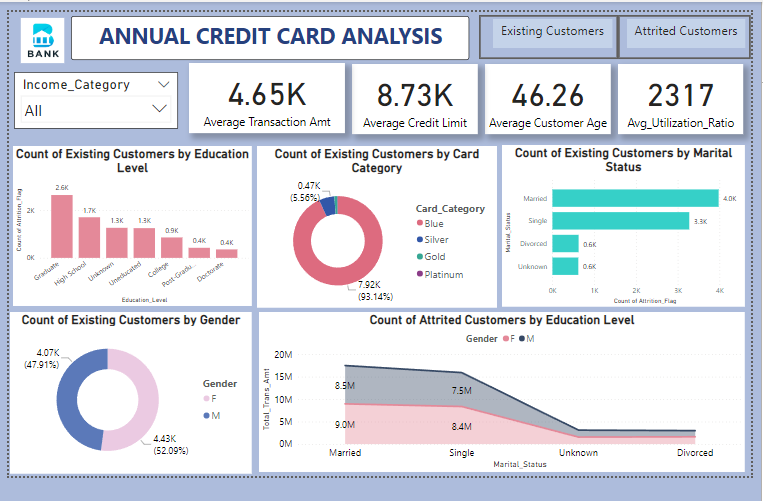

This screenshot's page, from the dashboard's own definition file:
{"tool":"powerbi","page":{"name":"Existing Customer","canvas":[1280,800],"ordinal":1},"visuals":[{"type":"image","box":[10.8,5.4,93.7,88.3],"z":0},{"type":"textbox","box":[106.4,7.2,686.9,75.7],"z":1000},{"type":"card","fields":{"Values":["BankChurners.Average Customer Age"]},"box":[821.1,89.7,217.4,120.8],"z":2000},{"type":"card","fields":{"Values":["Sum(BankChurners.Avg_Utilization_Ratio)"]},"box":[1051,90.1,216.3,120.8],"z":3000},{"type":"donutChart","title":"Count of Existing Customers by Gender","fields":{"Y":["CountNonNull(BankChurners.Attrition_Flag)"],"Category":["BankChurners.Gender"]},"box":[1.7,517.5,417.5,279.5],"z":4000},{"type":"donutChart","title":"Count of Existing Customers by Card Category","fields":{"Y":["CountNonNull(BankChurners.Attrition_Flag)"],"Category":["BankChurners.Card_Category"]},"box":[427.8,231.2,414,279.5],"z":5000},{"type":"actionButton","title":"Attried Customers","box":[1050.6,5.2,229.4,75.9],"z":6000},{"type":"textbox","box":[1065.5,12.6,203.7,50.5],"z":7000},{"type":"actionButton","title":"Attried Customers","box":[810.8,5.2,239.8,75.9],"z":8000},{"type":"textbox","box":[834.7,12.6,205.5,50.5],"z":9000},{"type":"clusteredBarChart","title":"Count of Existing Customers by Marital Status","fields":{"Category":["BankChurners.Marital_Status"],"Y":["CountNonNull(BankChurners.Attrition_Flag)"]},"box":[850.5,229.4,419.2,279.5],"z":10000},{"type":"clusteredColumnChart","title":"Count of Existing Customers by Education Level","fields":{"Y":["CountNonNull(BankChurners.Attrition_Flag)"],"Category":["BankChurners.Education_Level"]},"box":[6.9,231.2,412.3,276],"z":11000},{"type":"slicer","fields":{"Values":["BankChurners.Income_Category"]},"box":[8.6,103.5,282.9,98.3],"z":12000},{"type":"card","fields":{"Values":["BankChurners.Average Credit Limit"]},"box":[591.7,89.7,217.4,120.8],"z":13000},{"type":"card","fields":{"Values":["BankChurners.Average Transaction Amt"]},"box":[310.5,88,269.1,120.8],"z":14000},{"type":"stackedAreaChart","title":"Count of Attrited Customers by Education Level","fields":{"Y":["Sum(BankChurners.Total_Trans_Amt)"],"Category":["BankChurners.Marital_Status"],"Series":["BankChurners.Gender"]},"box":[431.3,517.5,838.4,276],"z":15000}]}

Visuals, with their boxes in screenshot pixels (x1, y1, x2, y2):
image: rect(10, 11, 65, 63)
textbox: rect(67, 12, 470, 57)
card - BankChurners.Average Customer Age: rect(487, 61, 614, 132)
card - Sum(BankChurners.Avg_Utilization_Ratio): rect(622, 61, 749, 132)
"Count of Existing Customers by Gender" donutChart: rect(5, 312, 250, 476)
"Count of Existing Customers by Card Category" donutChart: rect(255, 144, 499, 308)
"Attried Customers" actionButton: rect(622, 11, 756, 56)
textbox: rect(630, 15, 750, 45)
"Attried Customers" actionButton: rect(481, 11, 622, 56)
textbox: rect(495, 15, 615, 45)
"Count of Existing Customers by Marital Status" clusteredBarChart: rect(504, 143, 750, 307)
"Count of Existing Customers by Education Level" clusteredColumnChart: rect(8, 144, 250, 306)
slicer - BankChurners.Income_Category: rect(9, 69, 175, 127)
card - BankChurners.Average Credit Limit: rect(352, 61, 480, 132)
card - BankChurners.Average Transaction Amt: rect(186, 60, 345, 131)
"Count of Attrited Customers by Education Level" stackedAreaChart: rect(258, 312, 750, 474)
